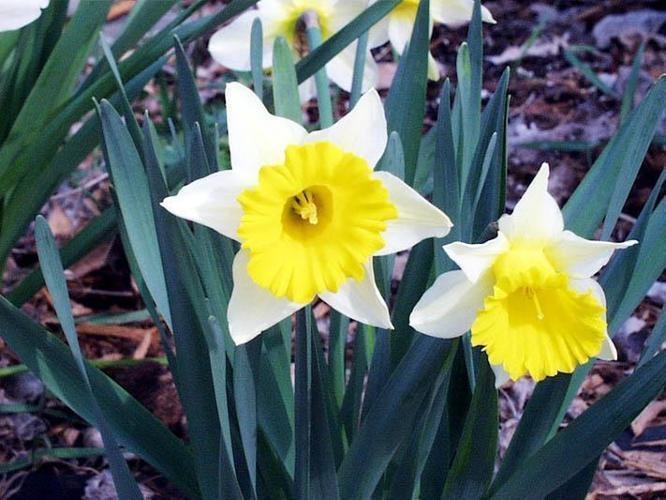flower1: (160, 80, 452, 345), (408, 160, 638, 392)
